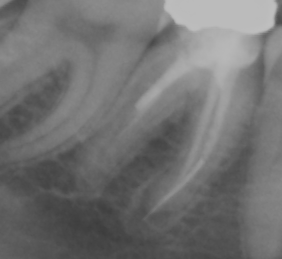fracture: (136, 161, 200, 221)
